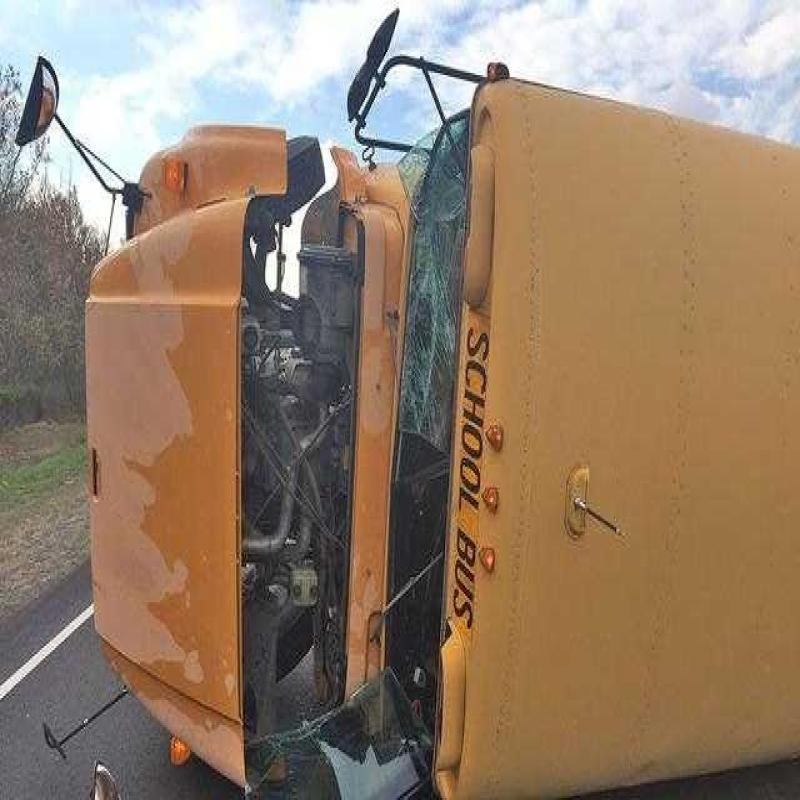bus: (76, 96, 799, 800)
